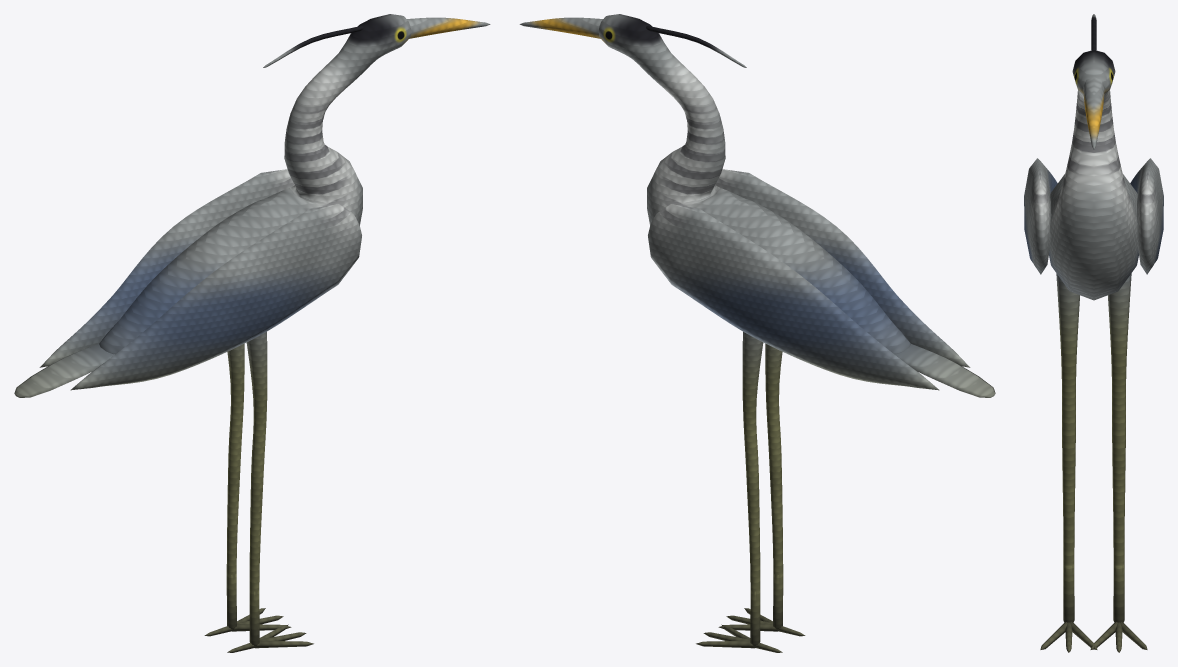
The model's file is heron.glb.
The picture shows the model from 3 angles, left to right: view 1: azimuth 30°, elevation 25°; view 2: azimuth 150°, elevation 25°; view 3: azimuth 270°, elevation 25°; orthographic projection. The views are drawn at different scales.
Parts seen in each view (by area): view 1: heron; view 2: heron; view 3: heron.
Boxes of the visible parts, x1=… form: heron: x1=14, y1=14, x2=490, y2=652; heron: x1=519, y1=14, x2=995, y2=652; heron: x1=1024, y1=14, x2=1163, y2=652.
Bounding box in the file's own units: 0.8456 × 1 × 0.1963.
Materials: 1 (1 with a texture image).
